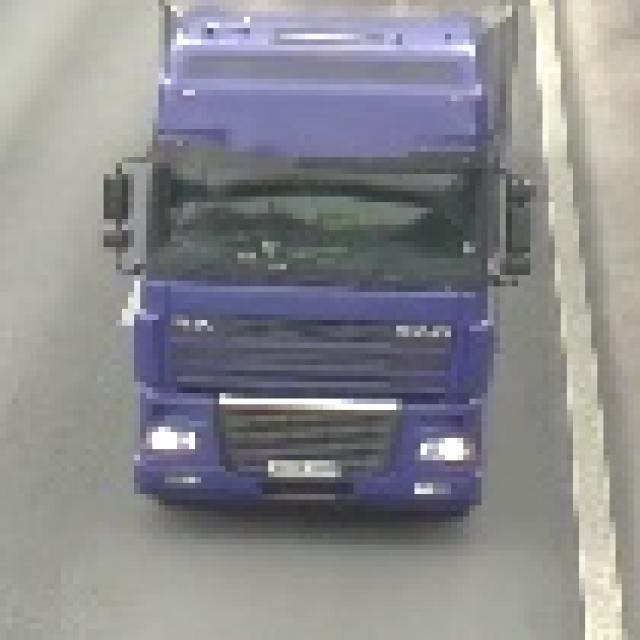TRUCK: (130, 0, 529, 522)
